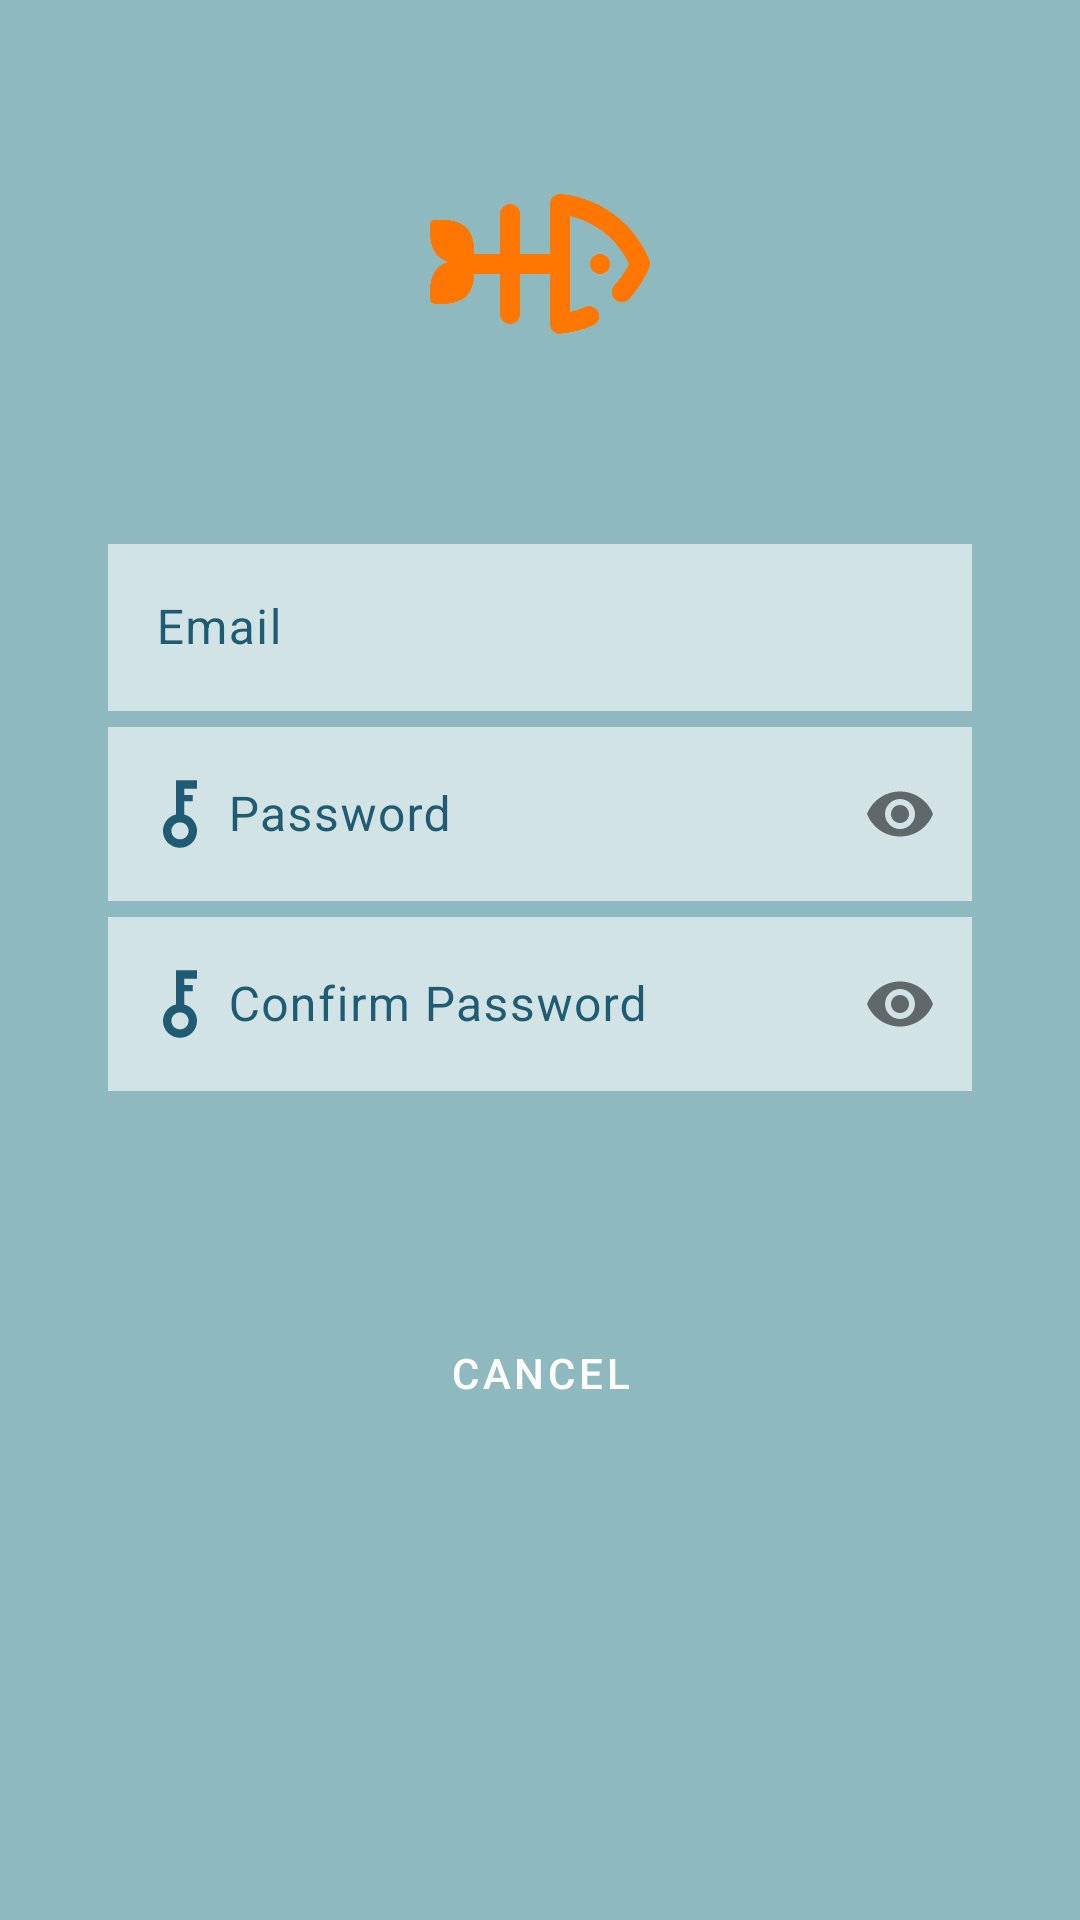

Where icons sit on this 1080*1920 app screen, as (x1, y1, x2, y2):
deadfish: (430, 194, 650, 334)
